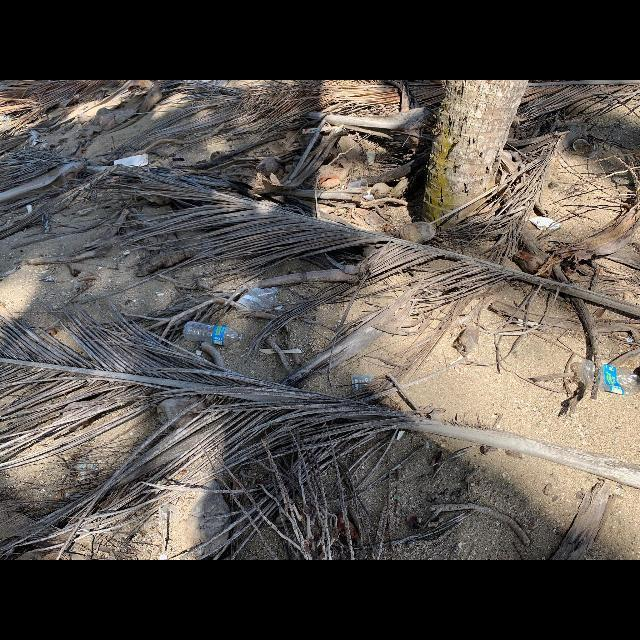Plastic: (576, 359, 640, 395), (184, 320, 244, 346), (250, 287, 278, 309), (236, 288, 262, 308), (529, 215, 561, 231), (114, 154, 148, 166), (351, 372, 371, 392), (347, 179, 367, 191), (260, 348, 300, 354)
